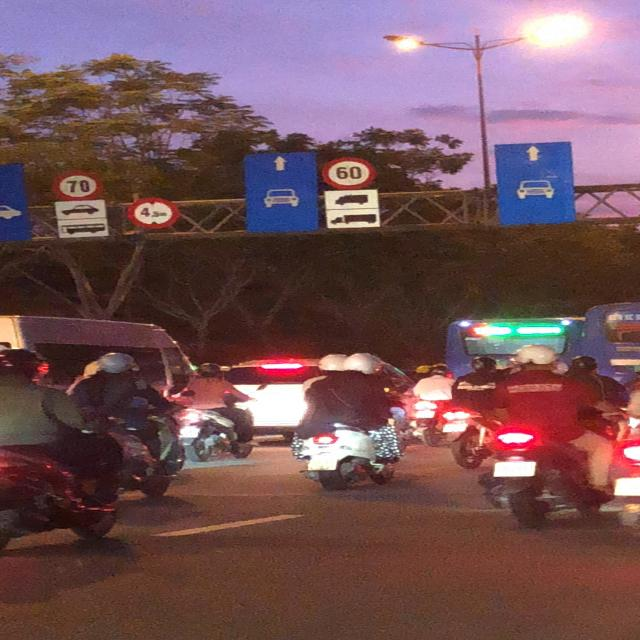Bien bao han che chieu cao: (127, 196, 182, 230)
Bien bao toc do toi da cho phep: (317, 154, 388, 194), (47, 169, 104, 202)
